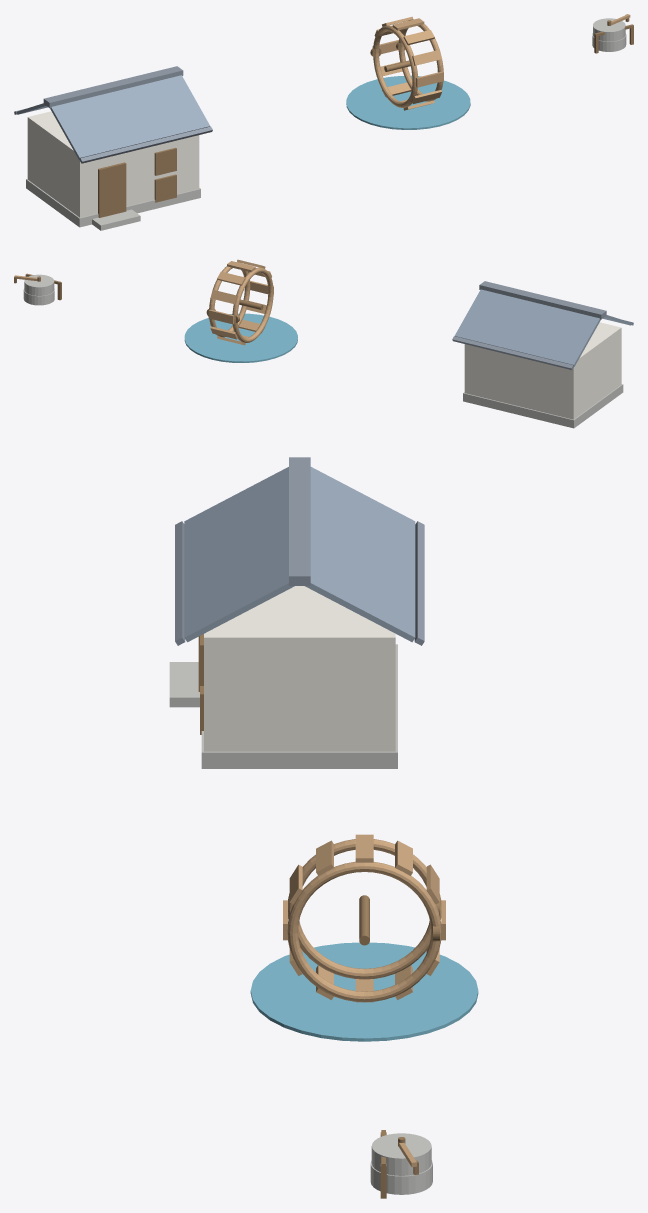
File: cn_shuixiang.glb
The picture shows the model from 3 angles, top to bottom: view 1: azimuth 30°, elevation 25°; view 2: azimuth 150°, elevation 25°; view 3: azimuth 270°, elevation 25°; orthographic projection. The views are drawn at different scales.
Visible parts, largest first — view 1: house_walls, roof_s, pond, roof_ridge, door, skirt, wheel_rim_-0.45, eave_s, wheel_rim_0.45, step, mill_top, win1 (+2 smaller); view 2: house_walls, roof_n, pond, skirt, roof_ridge, wheel_rim_-0.45, eave_n, mill_top, wheel_rim_0.45, mill_base, paddle_0, paddle_1; view 3: house_walls, pond, roof_n, roof_s, wheel_rim_0.45, skirt, wheel_rim_-0.45, roof_ridge, mill_top, step, eave_n, eave_s (+1 smaller).
Part boxes in pixels (x1,y1,x2,y2): house_walls: [27, 111, 199, 217]; roof_s: [50, 75, 210, 159]; pond: [346, 75, 470, 129]; roof_ridge: [43, 66, 183, 108]; door: [98, 162, 126, 217]; skirt: [26, 179, 200, 227]; wheel_rim_-0.45: [373, 25, 417, 107]; eave_s: [79, 126, 212, 163]; wheel_rim_0.45: [398, 19, 443, 101]; step: [92, 209, 140, 230]; mill_top: [593, 18, 625, 41]; win1: [154, 147, 176, 175]; house_walls: [464, 322, 621, 419]; roof_n: [454, 289, 600, 366]; pond: [184, 313, 297, 362]; skirt: [463, 384, 623, 428]; roof_ridge: [479, 281, 606, 319]; wheel_rim_-0.45: [232, 267, 273, 342]; eave_n: [452, 336, 573, 369]; mill_top: [24, 274, 54, 295]; wheel_rim_0.45: [209, 262, 250, 337]; mill_base: [23, 288, 54, 305]; paddle_0: [208, 309, 234, 324]; paddle_1: [210, 290, 237, 304]; house_walls: [204, 586, 395, 751]; pond: [250, 942, 478, 1041]; roof_n: [305, 467, 415, 642]; roof_s: [184, 467, 294, 642]; wheel_rim_0.45: [287, 861, 441, 1002]; skirt: [201, 644, 397, 768]; wheel_rim_-0.45: [288, 839, 441, 979]; roof_ridge: [289, 457, 310, 585]; mill_top: [371, 1133, 431, 1175]; step: [169, 662, 199, 707]; eave_n: [414, 521, 424, 645]; eave_s: [175, 521, 185, 645].
Bounding box in the file's own units: 21.63 × 3.66 × 5.16.
